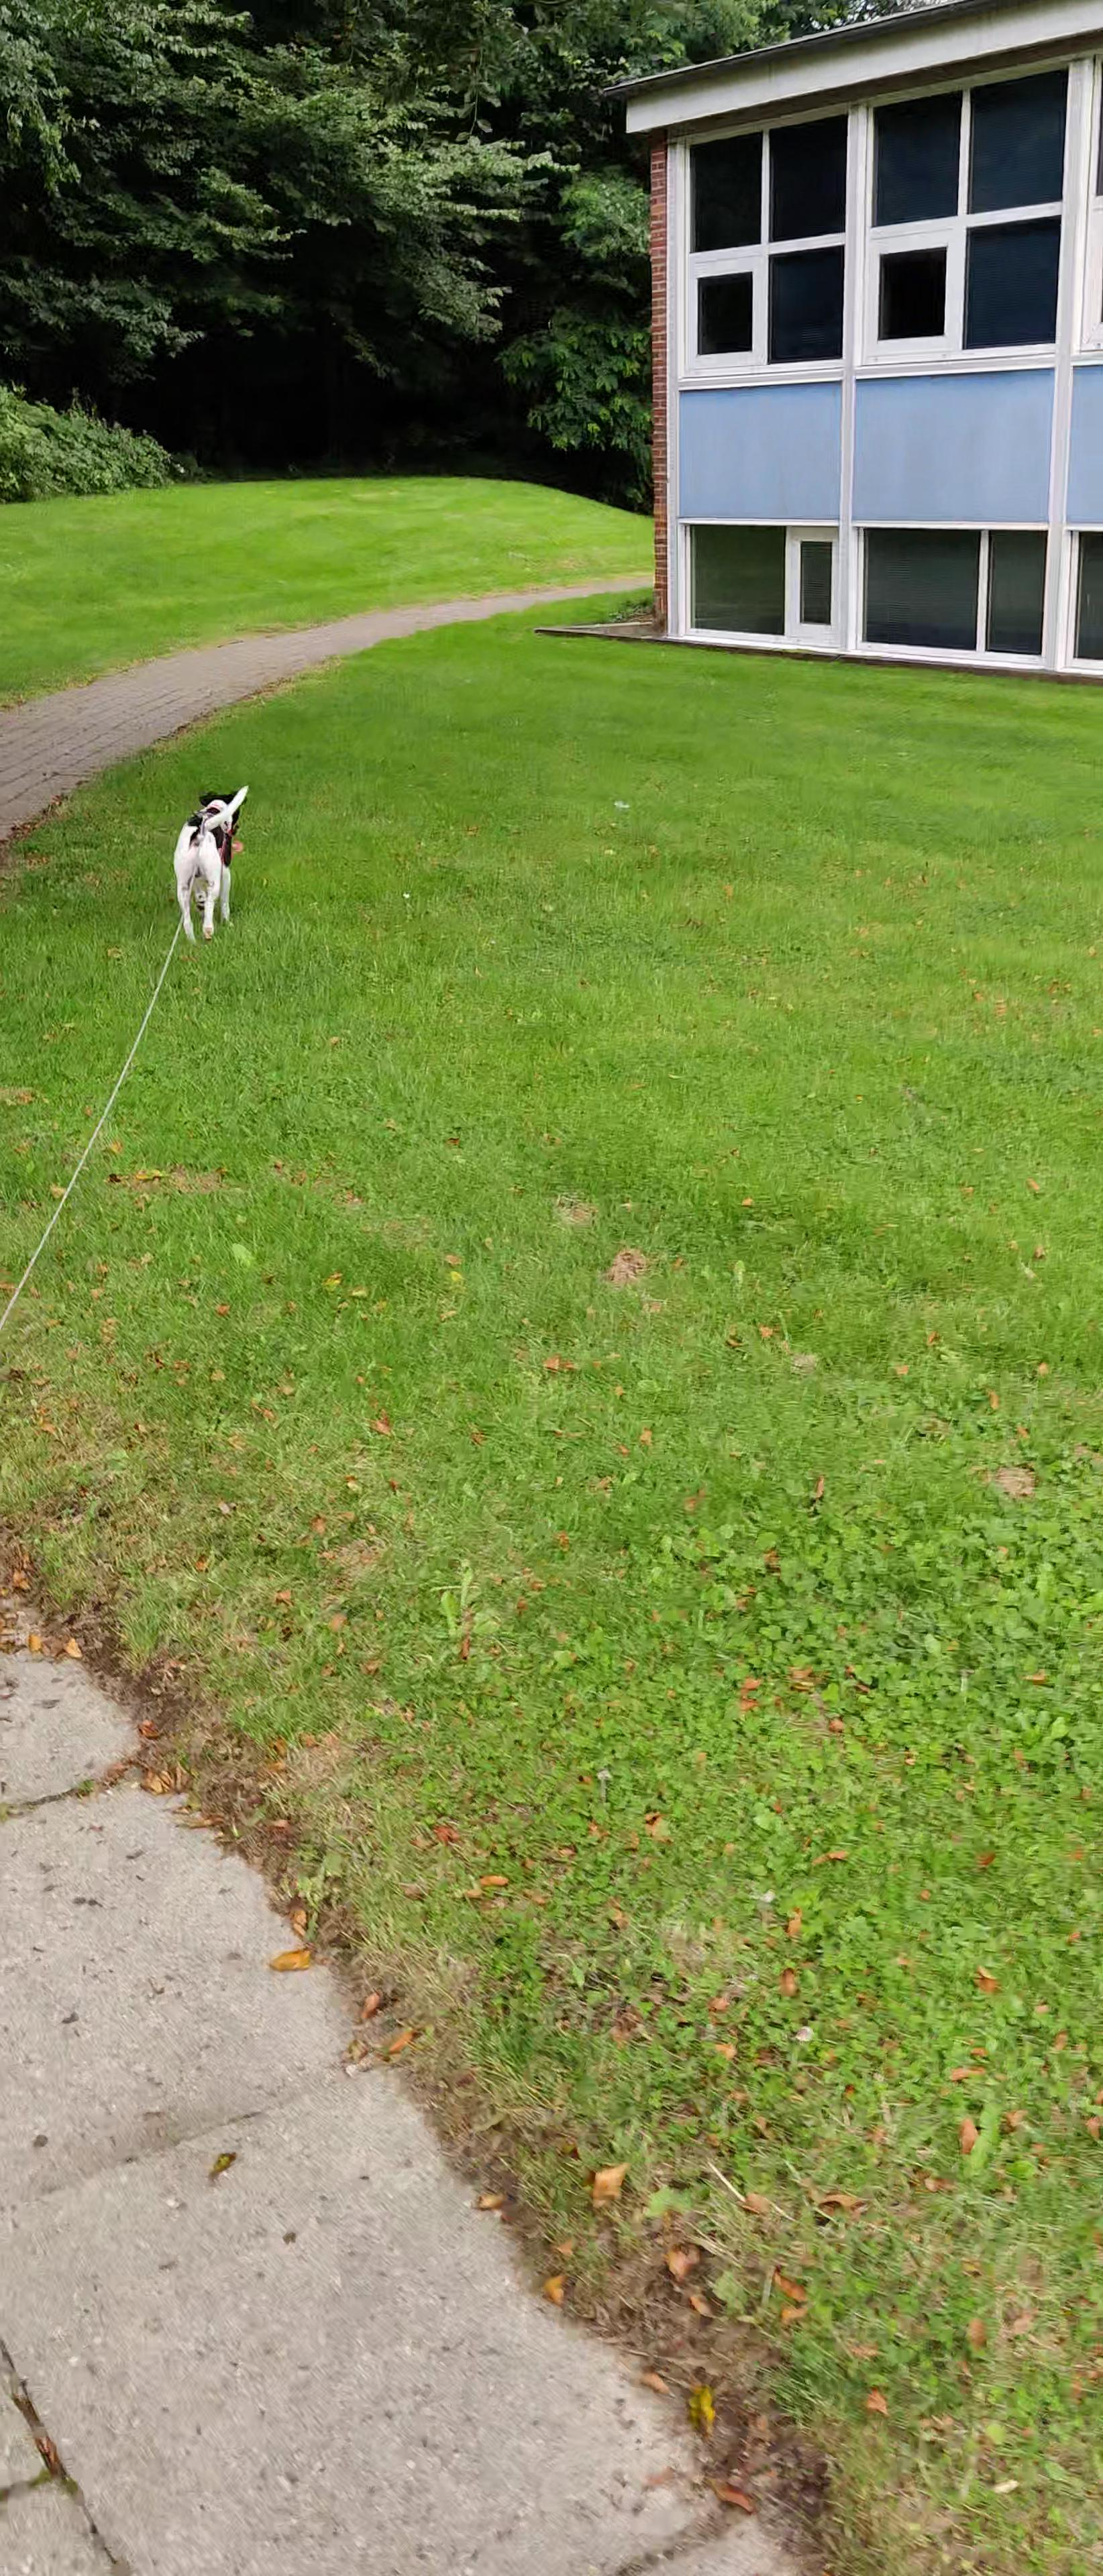Dog: (155, 770, 261, 953)
